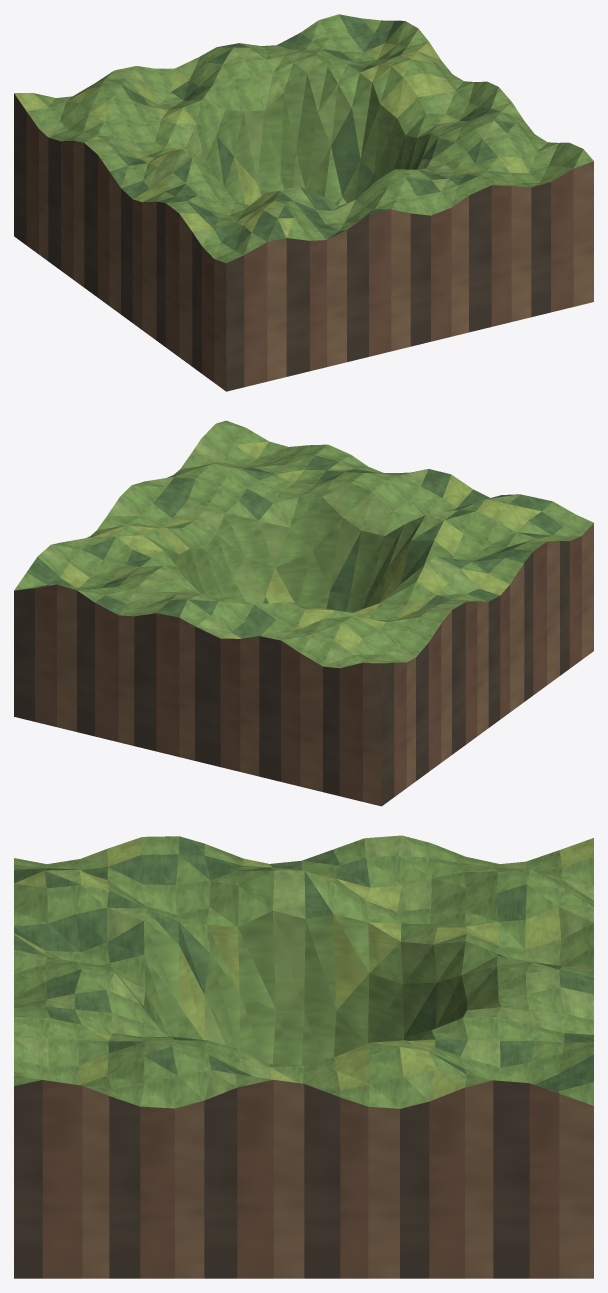
File: sinkhole.fbx
3 renders of one model, top to bottom at view 1: azimuth 30°, elevation 25°; view 2: azimuth 150°, elevation 25°; view 3: azimuth 270°, elevation 25°, orthographic. The views are drawn at different scales.
Parts seen in each view (by area): view 1: sinkhole; view 2: sinkhole; view 3: sinkhole.
Boxes of the visible parts, x1,y1,x2,y2 form: sinkhole: (14, 14, 593, 391); sinkhole: (14, 420, 593, 806); sinkhole: (14, 835, 593, 1278).
Bounding box in the file's own units: 1400 × 550 × 1400.
Materials: 1 (1 with a texture image).
